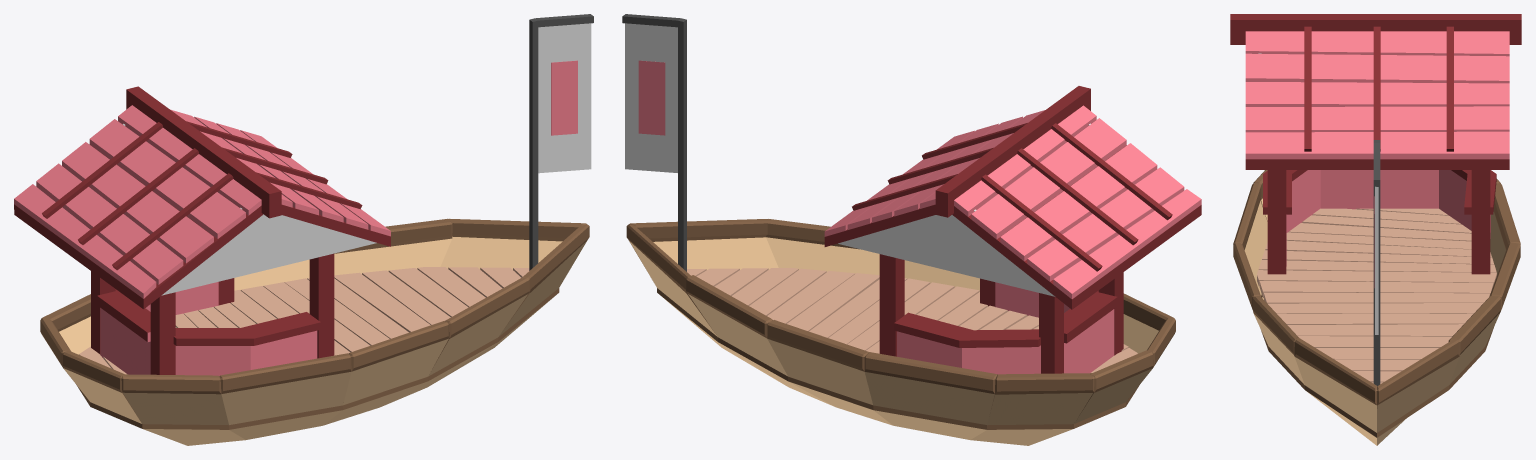
Rendered from boat.fbx.
3 renders of one model, left to right at view 1: azimuth 30°, elevation 25°; view 2: azimuth 150°, elevation 25°; view 3: azimuth 270°, elevation 25°, orthographic.
Visible parts, largest first — view 1: Plane.002, Plane, Cube.002, Cube.003, Plane.003, Cube.007, Cube, Cube.004, Plane.001, Cylinder.025, Cylinder, Cube.006 (+22 smaller); view 2: Plane.002, Plane, Cube.002, Cube.003, Plane.003, Cube.007, Cube.004, Cube.001, Plane.001, Cylinder.034, Cylinder, Cylinder.027 (+22 smaller); view 3: Plane.002, Plane, Cube.002, Cube.003, Plane.001, Cube, Cube.001, Cylinder.027, Cylinder.026, Cylinder.002, Cylinder.001, Cube.006 (+15 smaller).
Part boxes in pixels (x1=…): Plane.002: x1=14, y1=105, x2=390, y2=298; Plane: x1=79, y1=267, x2=529, y2=374; Cube.002: x1=42, y1=86, x2=362, y2=270; Cube.003: x1=100, y1=282, x2=317, y2=375; Plane.003: x1=123, y1=123, x2=376, y2=295; Cube.007: x1=538, y1=23, x2=591, y2=173; Cube: x1=150, y1=253, x2=334, y2=374; Cube.004: x1=97, y1=289, x2=320, y2=345; Plane.001: x1=14, y1=145, x2=390, y2=309; Cylinder.025: x1=221, y1=372, x2=351, y2=424; Cylinder: x1=143, y1=296, x2=554, y2=445; Cube.006: x1=529, y1=14, x2=593, y2=270; Plane.002: x1=824, y1=105, x2=1201, y2=298; Plane: x1=687, y1=268, x2=1137, y2=372; Cube.002: x1=852, y1=86, x2=1172, y2=271; Cube.003: x1=897, y1=282, x2=1114, y2=374; Plane.003: x1=838, y1=123, x2=1090, y2=296; Cube.007: x1=625, y1=23, x2=677, y2=172; Cube.004: x1=894, y1=290, x2=1117, y2=347; Cube.001: x1=879, y1=254, x2=1063, y2=373; Plane.001: x1=824, y1=145, x2=1201, y2=309; Cylinder.034: x1=864, y1=372, x2=994, y2=424; Cylinder: x1=660, y1=295, x2=1072, y2=445; Cylinder.027: x1=653, y1=237, x2=778, y2=269; Plane.002: x1=1245, y1=31, x2=1509, y2=159; Plane: x1=1257, y1=208, x2=1496, y2=383; Cube.002: x1=1230, y1=14, x2=1521, y2=151; Cube.003: x1=1286, y1=170, x2=1490, y2=266; Plane.001: x1=1245, y1=159, x2=1509, y2=169; Cube: x1=1267, y1=170, x2=1286, y2=274; Cube.001: x1=1471, y1=170, x2=1490, y2=274; Cylinder.027: x1=1295, y1=357, x2=1376, y2=432; Cylinder.026: x1=1377, y1=357, x2=1459, y2=432; Cylinder.002: x1=1294, y1=337, x2=1377, y2=408; Cylinder.001: x1=1377, y1=337, x2=1459, y2=405; Cube.006: x1=1373, y1=140, x2=1380, y2=385.
Bounding box in the file's own units: 2048 × 1175 × 958.
